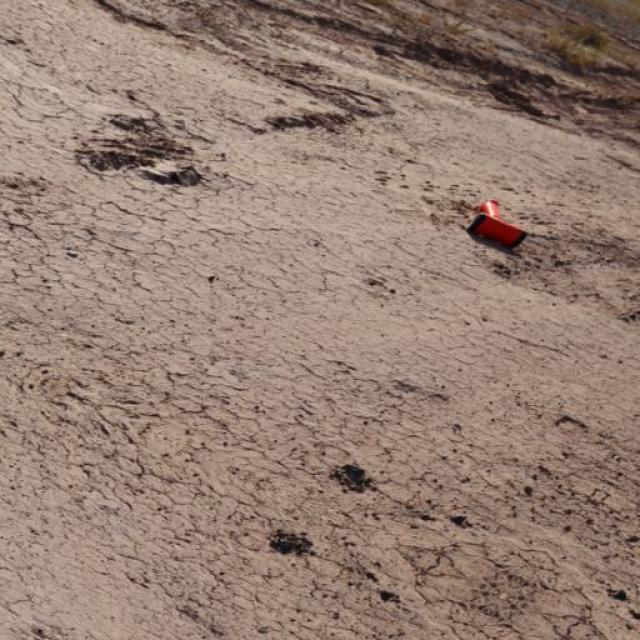mallet: (468, 198, 530, 248)
